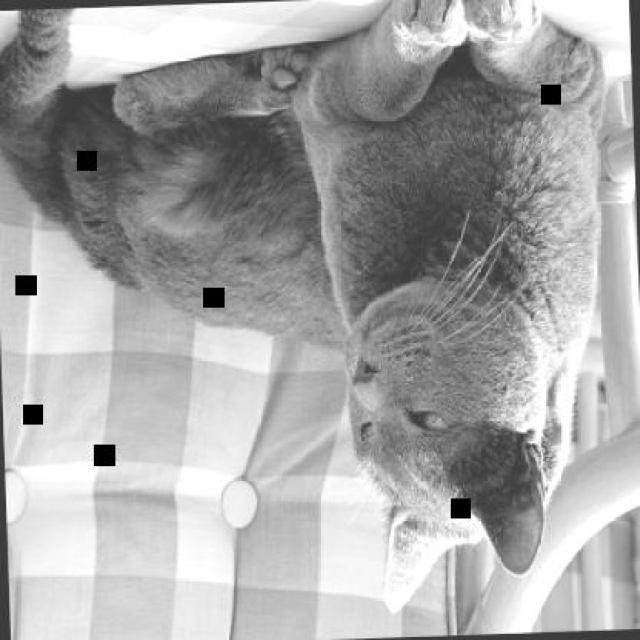cat: (0, 0, 626, 629)
